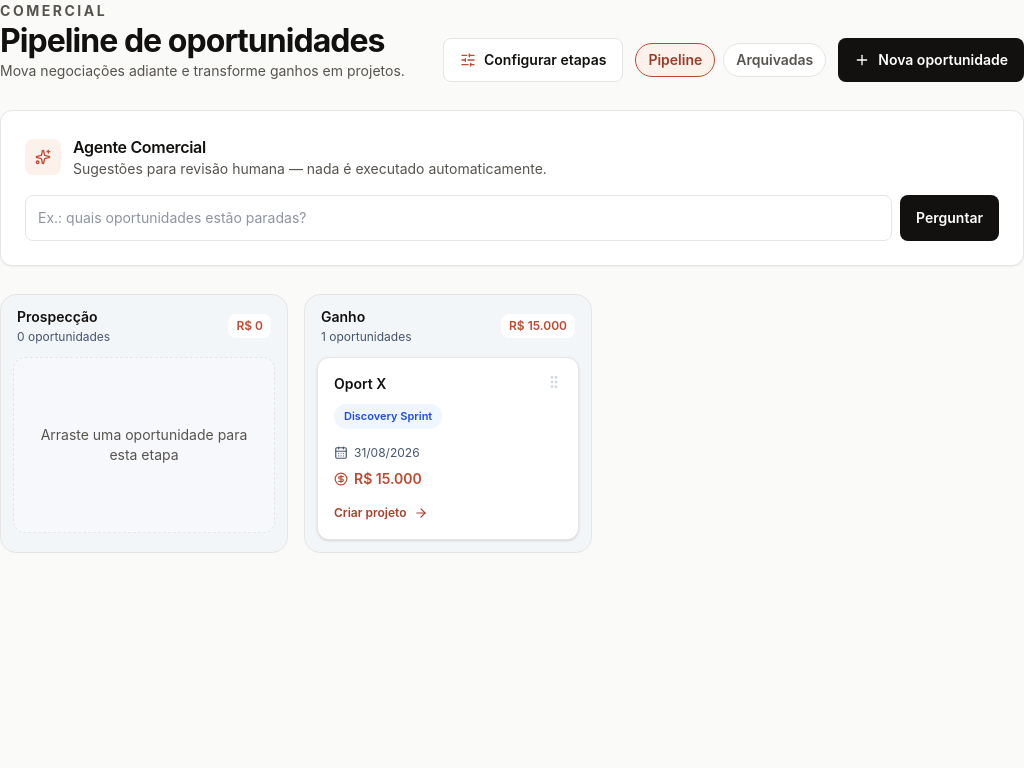
mostra o pipeline e abre o detalhe da oportunidade
Step 1. Click the text "Oport X" → (360, 384), box [334,374,386,394]
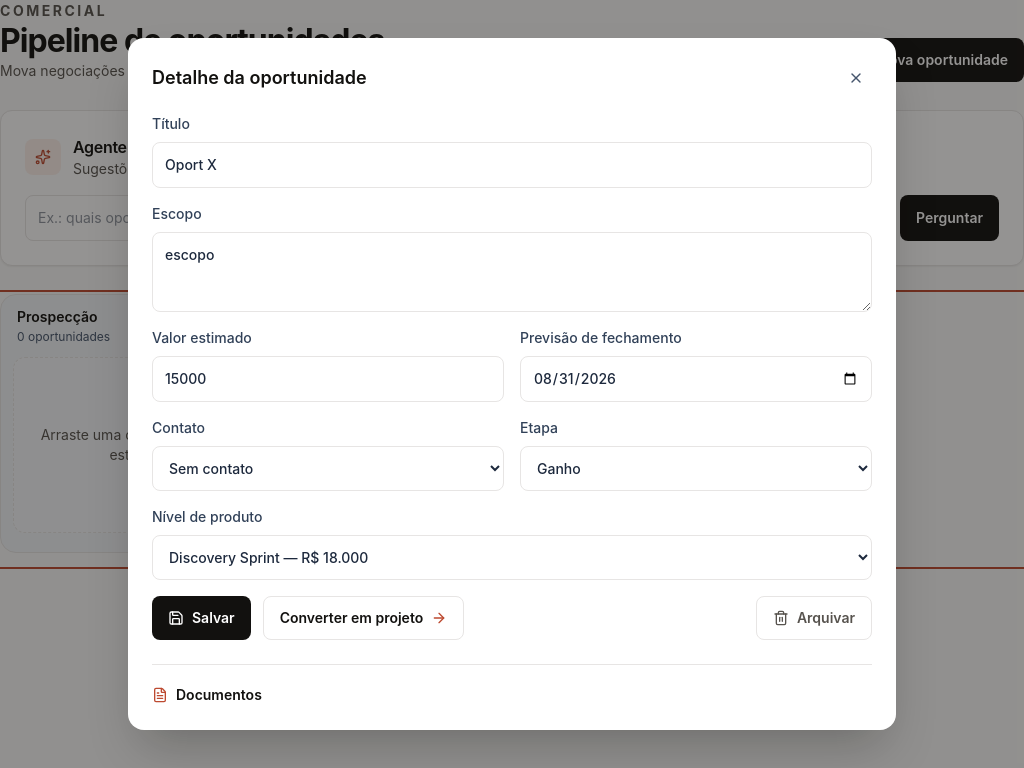
Check: the heading "Detalhe da oportunidade" is shown, box [152,64,367,92]
